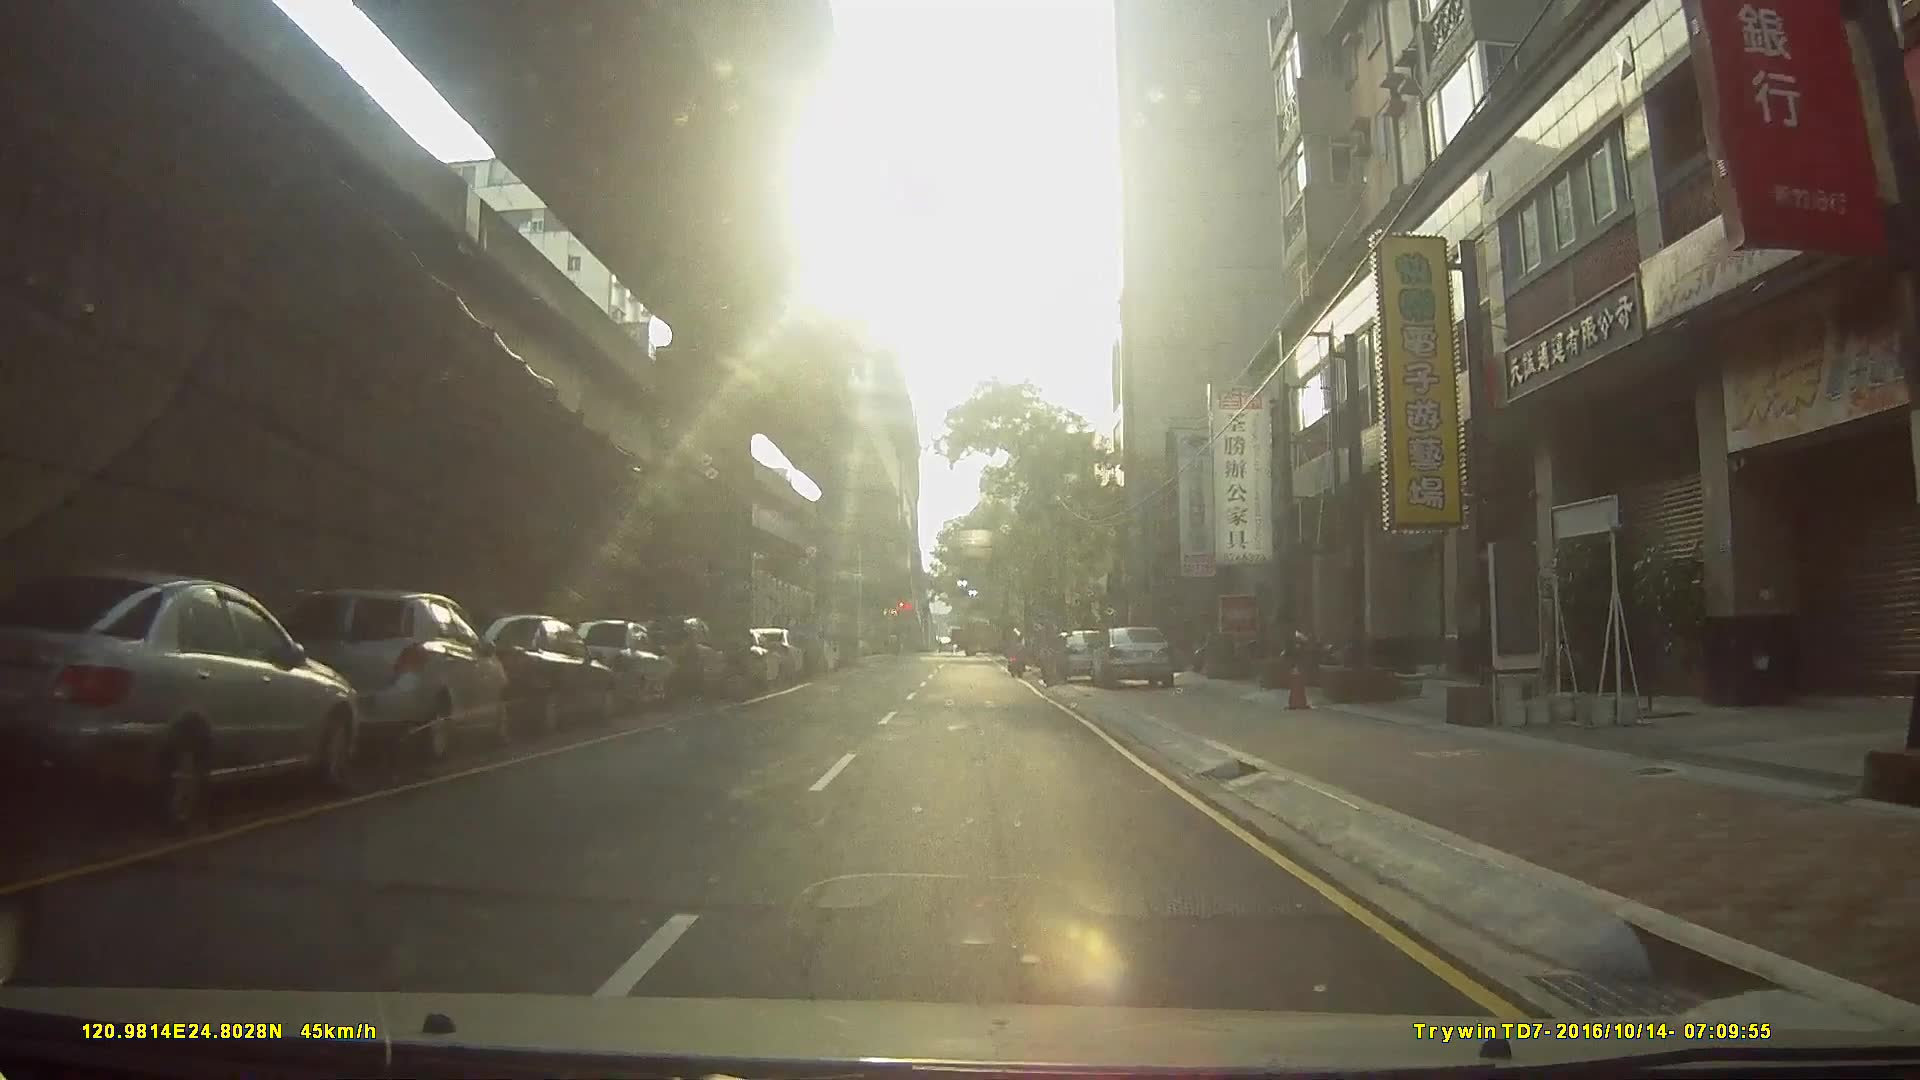vehicle: (1, 559, 357, 833), (247, 585, 498, 764), (444, 611, 611, 741), (555, 615, 674, 713), (626, 613, 727, 709), (1085, 622, 1179, 688), (1039, 625, 1114, 684), (767, 608, 824, 678), (948, 618, 1026, 655)
